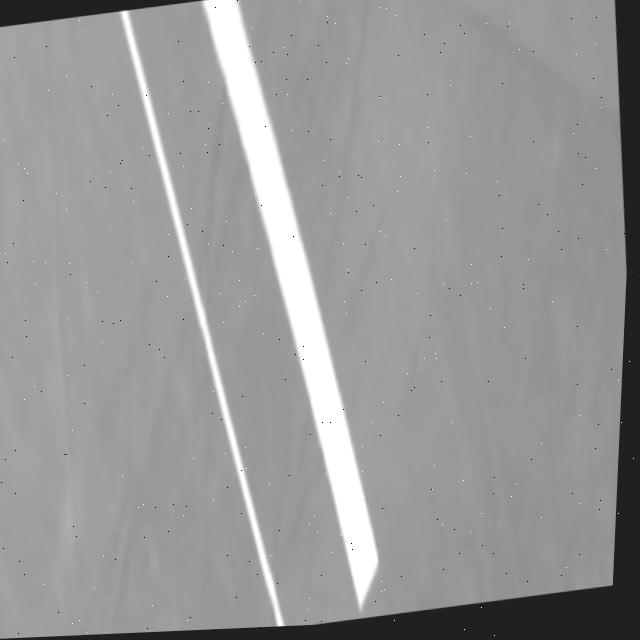center: (201, 0, 376, 607)
